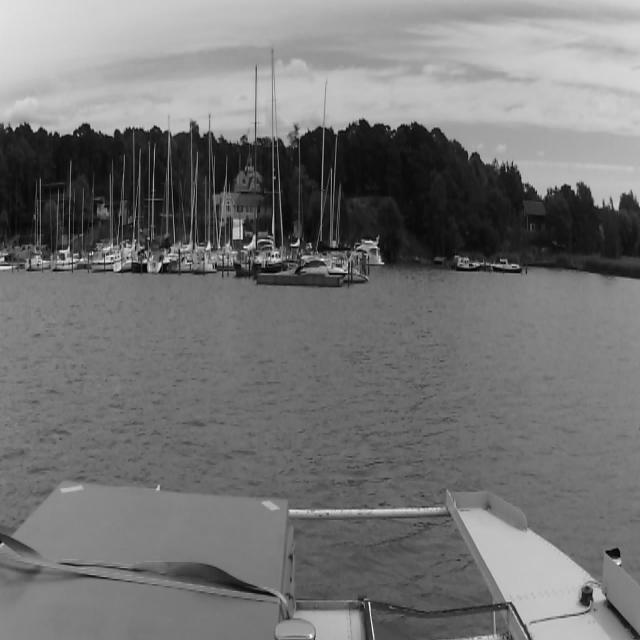ship: (235, 51, 289, 271), (316, 79, 342, 253), (118, 128, 144, 271), (54, 158, 80, 268), (178, 123, 197, 272), (200, 111, 217, 272), (92, 160, 115, 269), (147, 137, 165, 272), (28, 175, 50, 268), (347, 236, 385, 265), (294, 258, 349, 274), (487, 258, 521, 274), (456, 256, 482, 271)
